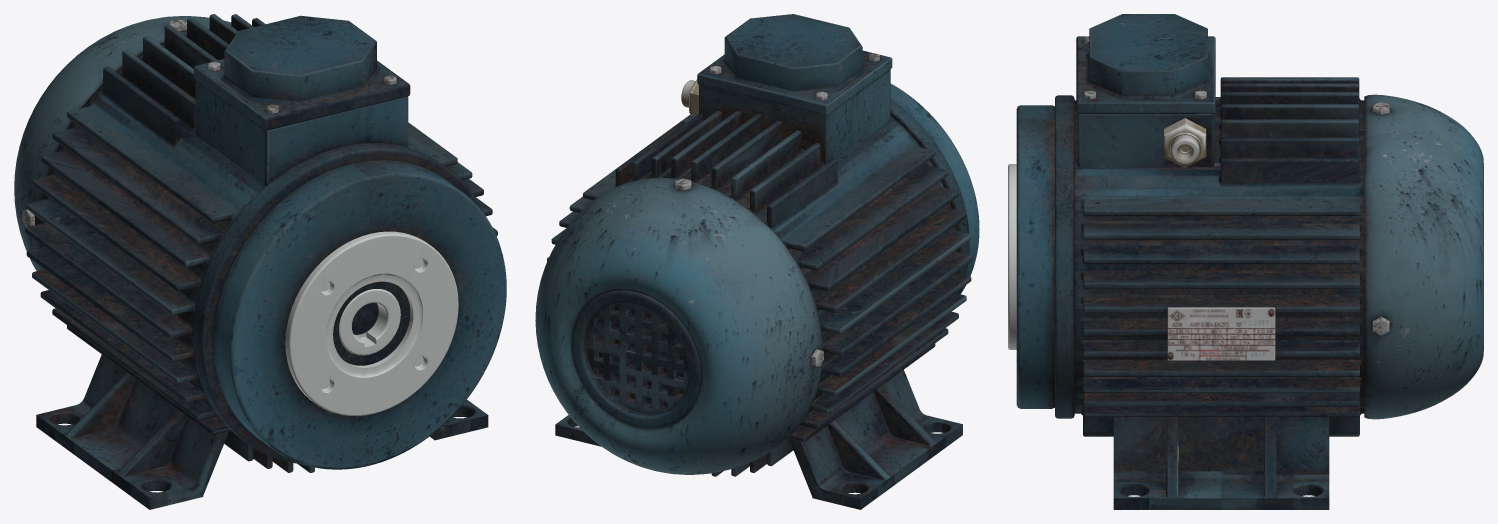
The model's file is mezcladora.glb.
3 renders of one model, left to right at view 1: azimuth 30°, elevation 25°; view 2: azimuth 150°, elevation 25°; view 3: azimuth 270°, elevation 25°, orthographic. The views are drawn at different scales.
Parts seen in each view (by area): view 1: korpus, steel, bolt; view 2: korpus, bolt, plastic; view 3: korpus, icon, plastic, steel, bolt.
Boxes of the visible parts, x1=… form: korpus: x1=14, y1=14, x2=506, y2=509; steel: x1=285, y1=231, x2=458, y2=416; bolt: x1=22, y1=19, x2=396, y2=227; korpus: x1=535, y1=14, x2=979, y2=509; bolt: x1=675, y1=53, x2=879, y2=366; plastic: x1=681, y1=79, x2=698, y2=115; korpus: x1=1016, y1=14, x2=1483, y2=509; icon: x1=1167, y1=307, x2=1275, y2=360; plastic: x1=1164, y1=118, x2=1206, y2=167; steel: x1=1008, y1=164, x2=1016, y2=349; bolt: x1=1084, y1=36, x2=1389, y2=335.
Bounding box in the file's own units: 0.1897 × 0.2193 × 0.2428.
1 material, 1 textured.
